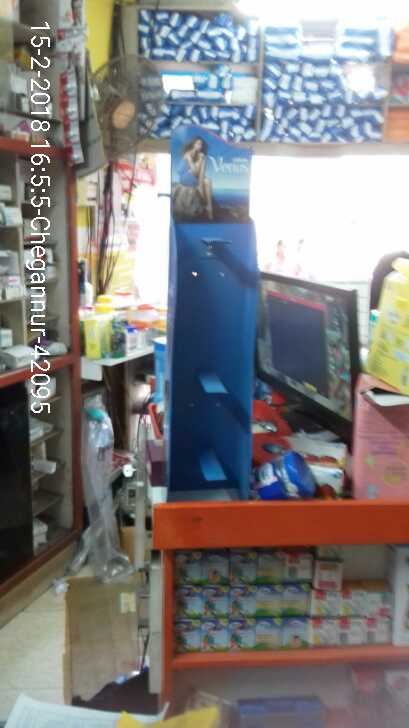reject: (161, 299, 232, 358)
